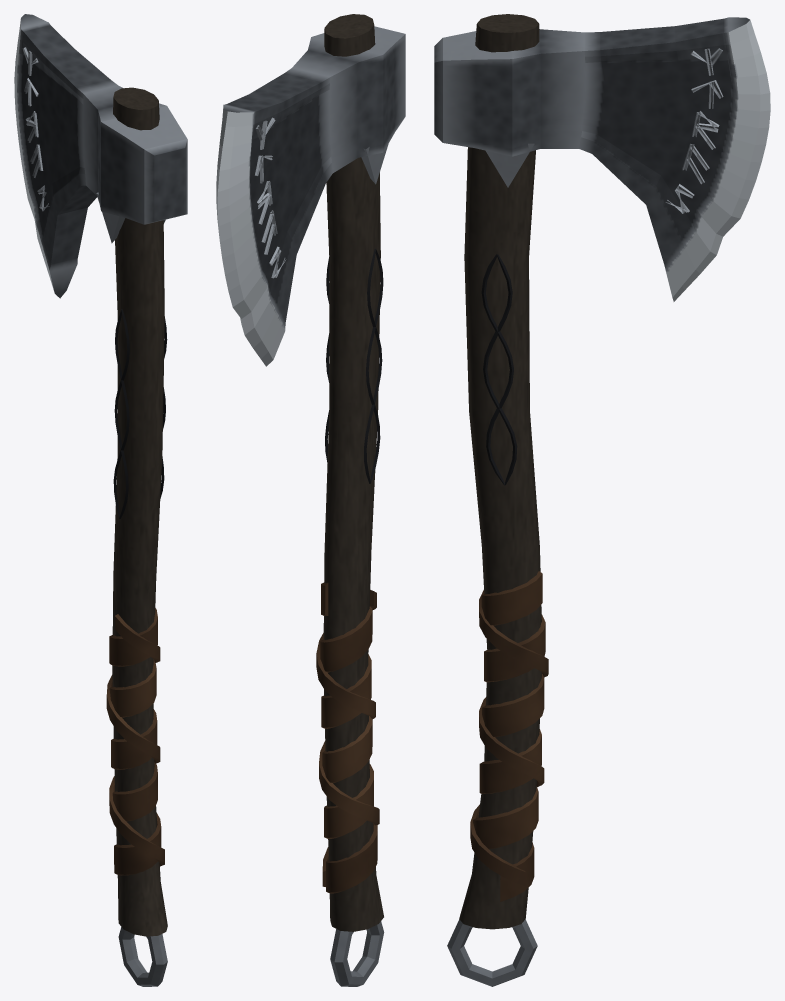
Rendered from SwampAxe_Left_Forged.fbx.
3 views of the same model, side by side, from view 1: azimuth 30°, elevation 25°; view 2: azimuth 150°, elevation 25°; view 3: azimuth 270°, elevation 25° (orthographic). The views are drawn at different scales.
Parts seen in each view (by area): view 1: SwampAxe_Left_Forged; view 2: SwampAxe_Left_Forged; view 3: SwampAxe_Left_Forged.
Boxes of the visible parts, x1,y1,x2,y2 form: SwampAxe_Left_Forged: (14,14,187,986); SwampAxe_Left_Forged: (216,14,405,986); SwampAxe_Left_Forged: (434,14,770,986).
Size of the model in its own units: 0.0586 by 0.753 by 0.2373.
Materials: 1 (1 with a texture image).
